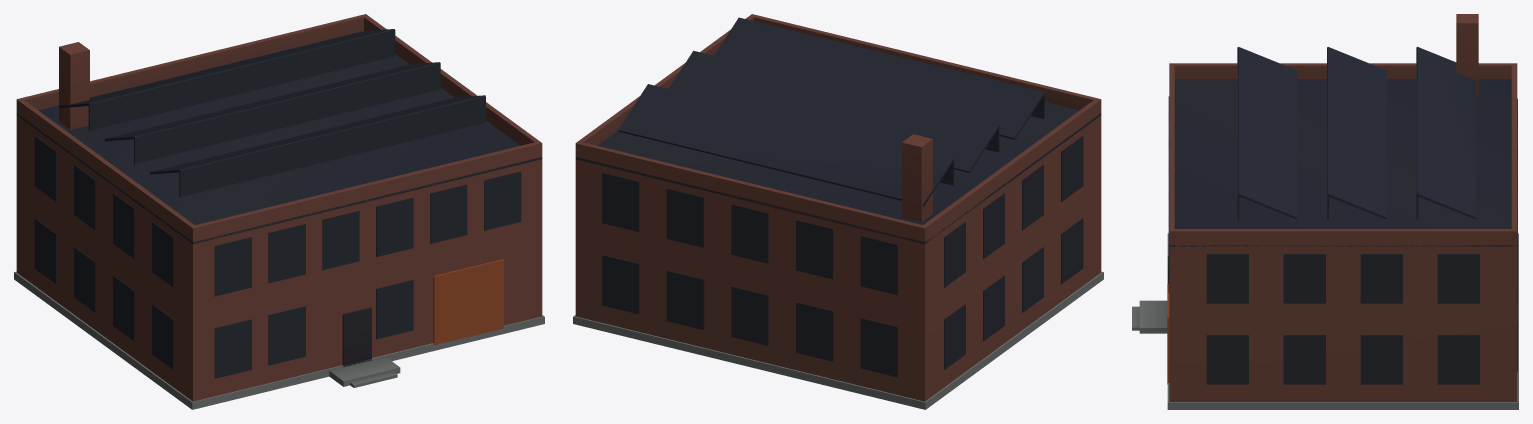
The model's file is shell_rotrow_loft_lod1.glb.
3 renders of one model, left to right at view 1: azimuth 30°, elevation 25°; view 2: azimuth 150°, elevation 25°; view 3: azimuth 270°, elevation 25°, orthographic.
Parts seen in each view (by area): view 1: shell_rotrow_loft_lod1; view 2: shell_rotrow_loft_lod1; view 3: shell_rotrow_loft_lod1.
Boxes of the visible parts, <box> form: shell_rotrow_loft_lod1: <box>14,14,544,409</box>; shell_rotrow_loft_lod1: <box>573,14,1103,409</box>; shell_rotrow_loft_lod1: <box>1132,14,1518,409</box>.
Bounding box in the file's own units: 16.14 × 10.58 × 15.57.
